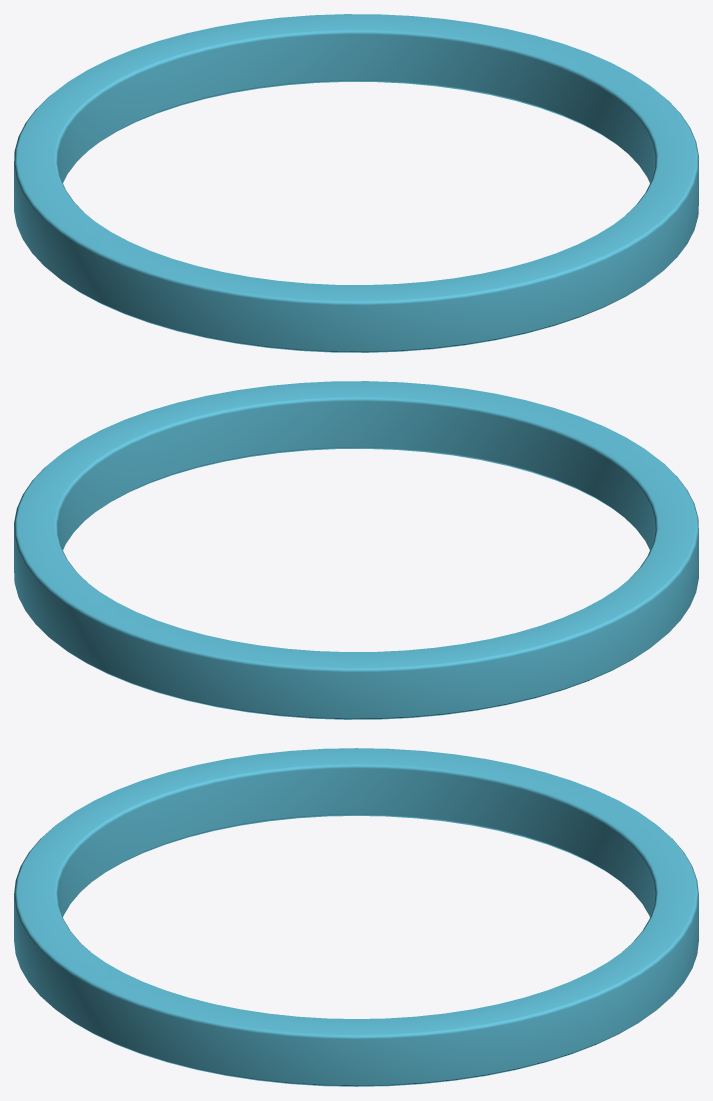
3 renders of one model, top to bottom at view 1: azimuth 30°, elevation 25°; view 2: azimuth 150°, elevation 25°; view 3: azimuth 270°, elevation 25°, orthographic.
Visible parts, largest first — view 1: seal_body; view 2: seal_body; view 3: seal_body.
Boxes of the visible parts, <box> form: seal_body: <box>14,14,698,352</box>; seal_body: <box>14,381,698,719</box>; seal_body: <box>14,748,698,1086</box>.
Bounding box in the file's own units: 0.125 × 0.0105 × 0.125.
